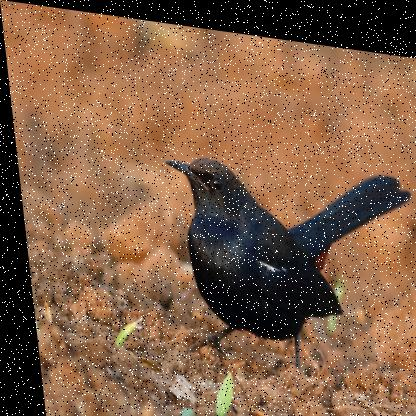Burung: (161, 140, 415, 379)
